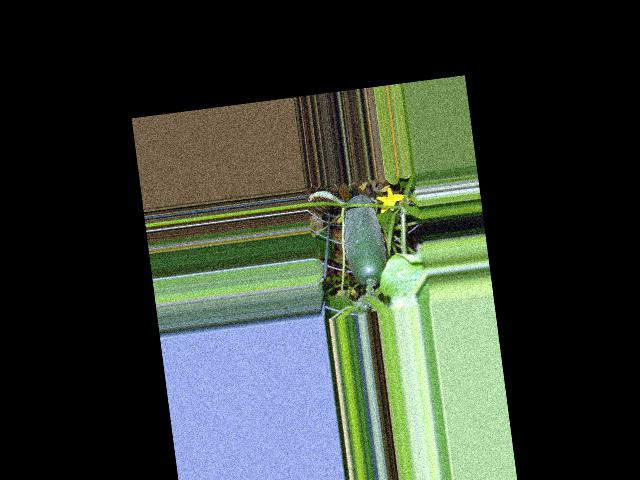cucumber: (337, 193, 389, 288)
